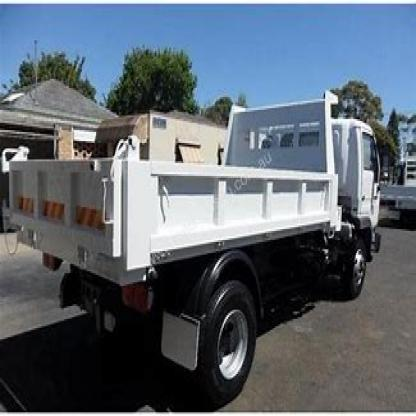dump_truck: (18, 88, 398, 403)
